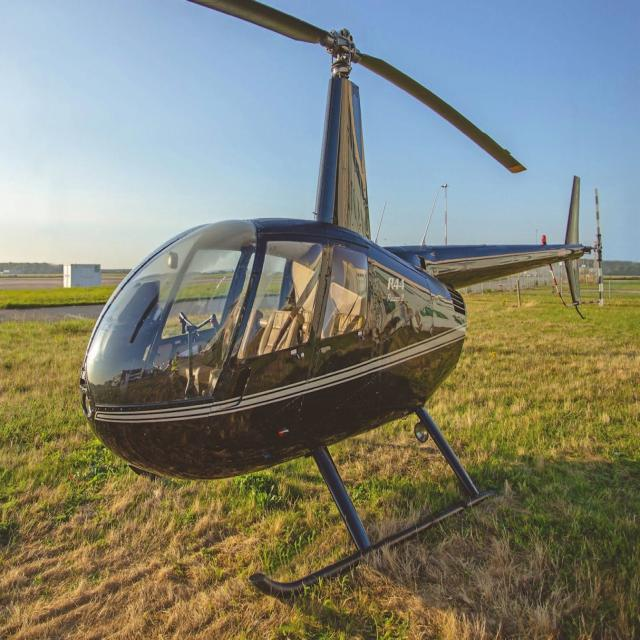CIV_HELO: (78, 0, 591, 602)
